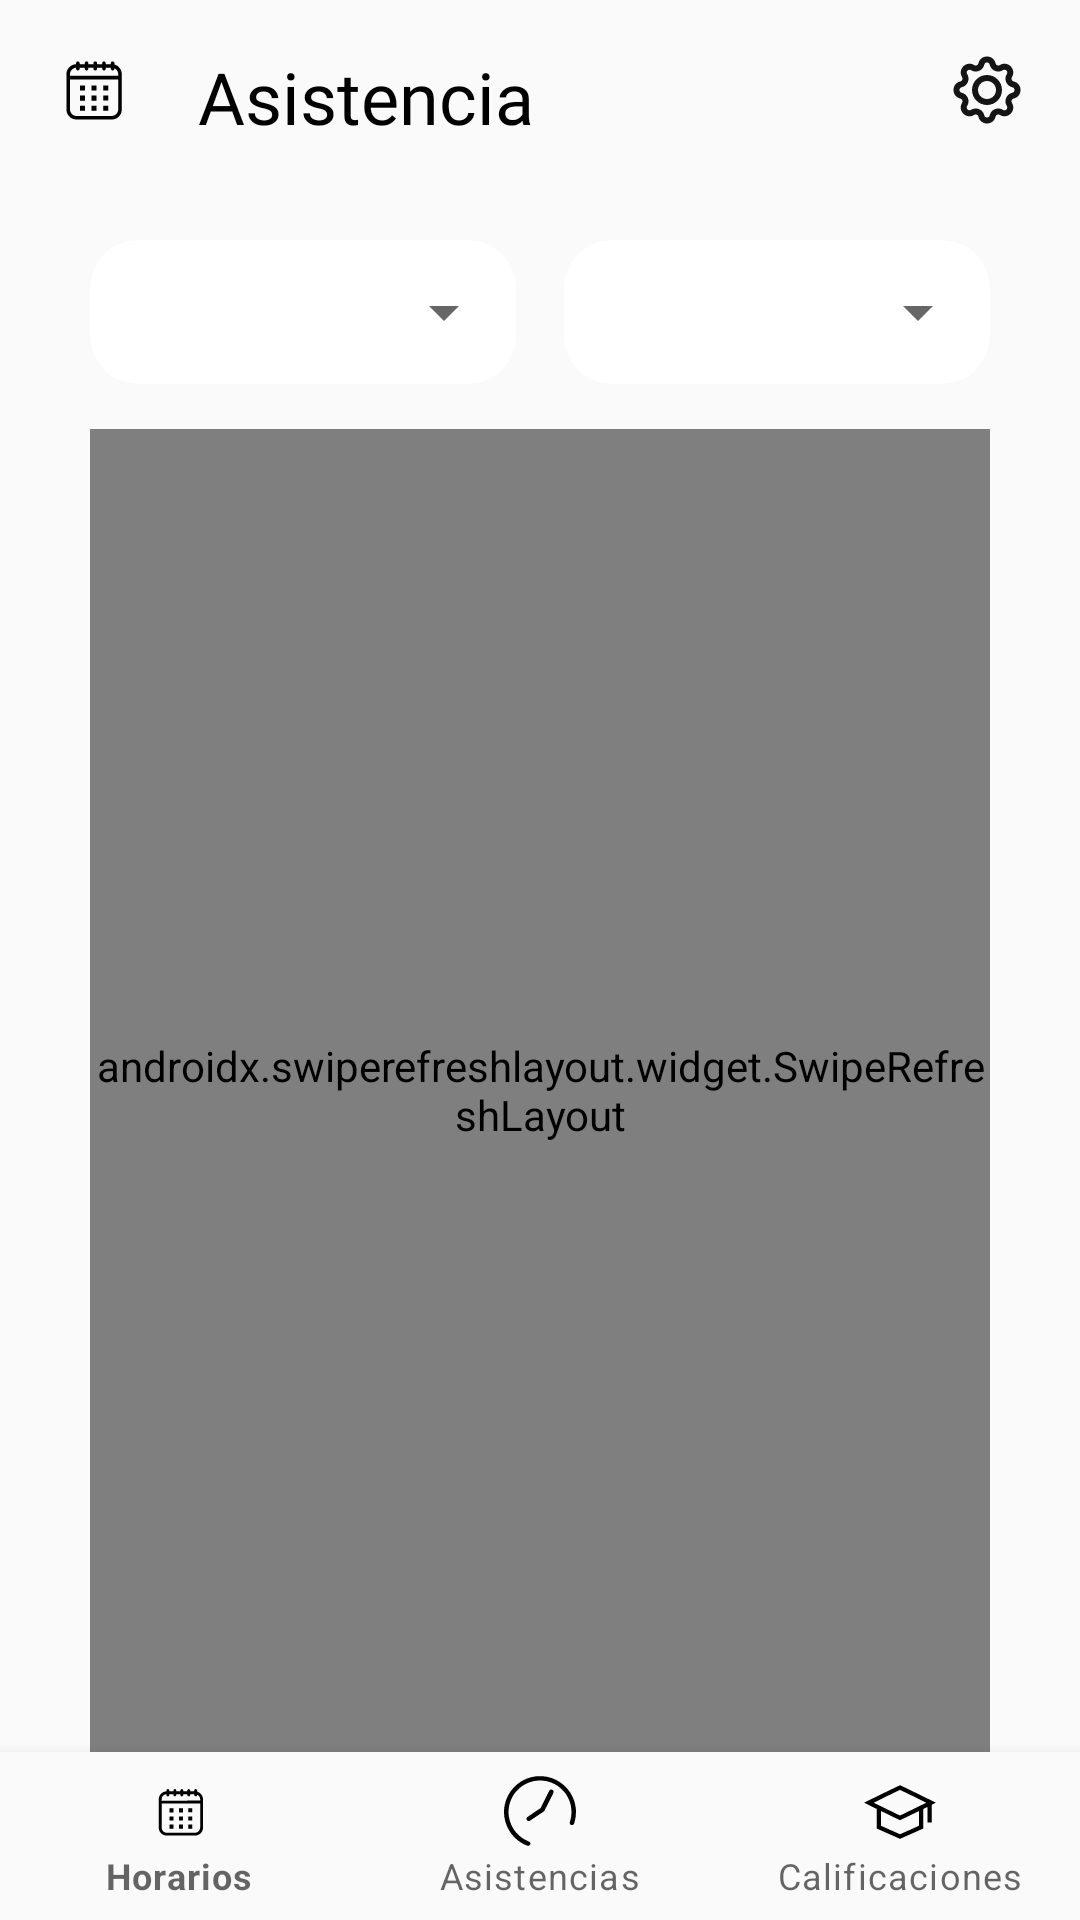

Icon bounding boxes for this 1080x1920 phone screenshot, format (x1, y1, x2, y2):
icon de calendario: (66, 61, 122, 120)
Ícono de configuración: (953, 56, 1021, 124)
